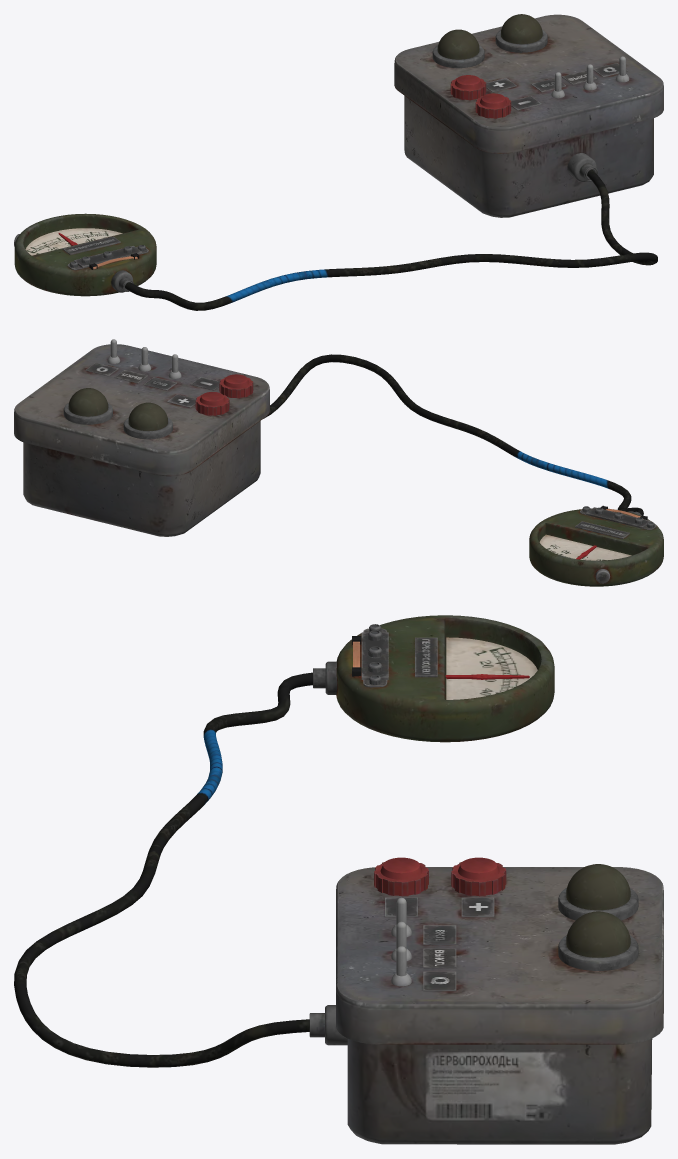
The model's file is anomaly_detector-opt.glb.
3 views of the same model, one above another, from view 1: azimuth 30°, elevation 25°; view 2: azimuth 150°, elevation 25°; view 3: azimuth 270°, elevation 25° (orthographic). The views are drawn at different scales.
Visible parts, largest first — view 1: Cube_1.001__0; view 2: Cube_1.001__0; view 3: Cube_1.001__0.
Part boxes in pixels (<box>): Cube_1.001__0: <box>14,14,663,310</box>; Cube_1.001__0: <box>14,339,663,586</box>; Cube_1.001__0: <box>14,615,663,1144</box>.
Bounding box in the file's own units: 10 × 1.9 × 5.94.
Materials: 1 (1 with a texture image).
